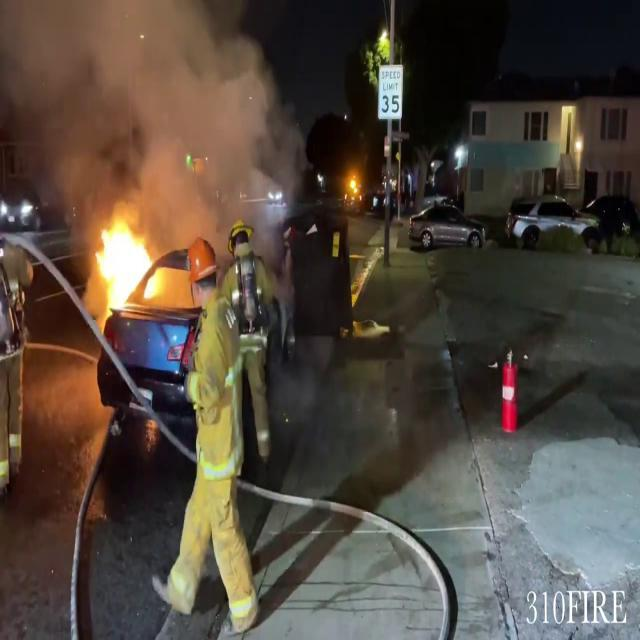Fire: (89, 212, 170, 314)
Smoke: (0, 0, 306, 226)
